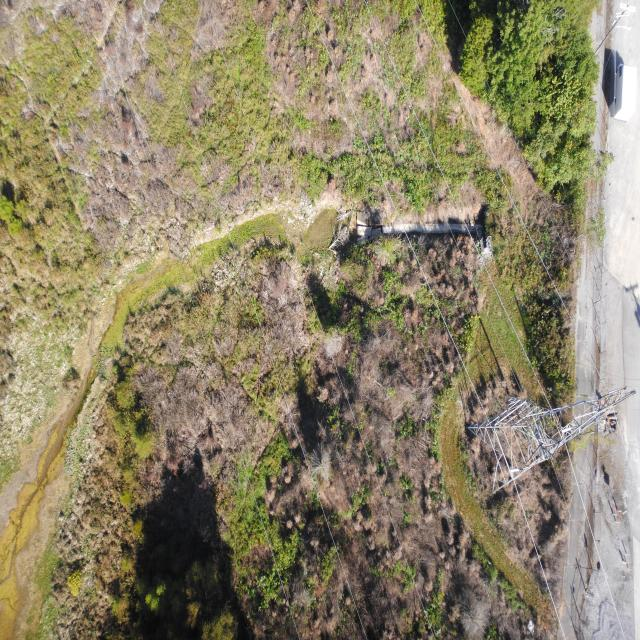Area of Interest: (470, 14, 588, 203)
